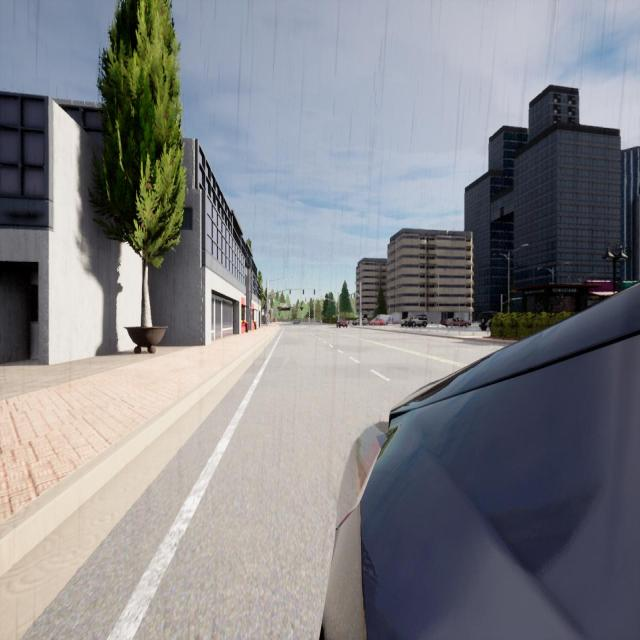Vehicle: (323, 284, 639, 638), (480, 312, 496, 331), (402, 316, 426, 328), (442, 318, 471, 327), (369, 315, 392, 325), (354, 318, 368, 326), (337, 321, 347, 328), (294, 320, 298, 325)
traffic_light: (289, 289, 291, 294), (303, 290, 304, 294), (314, 290, 315, 294), (351, 295, 352, 298), (354, 294, 354, 298)
